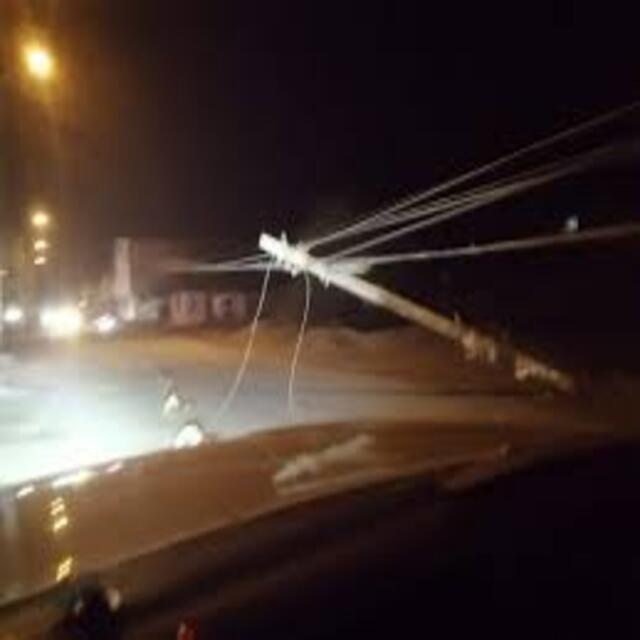Inclined Pole: (250, 224, 579, 396)
